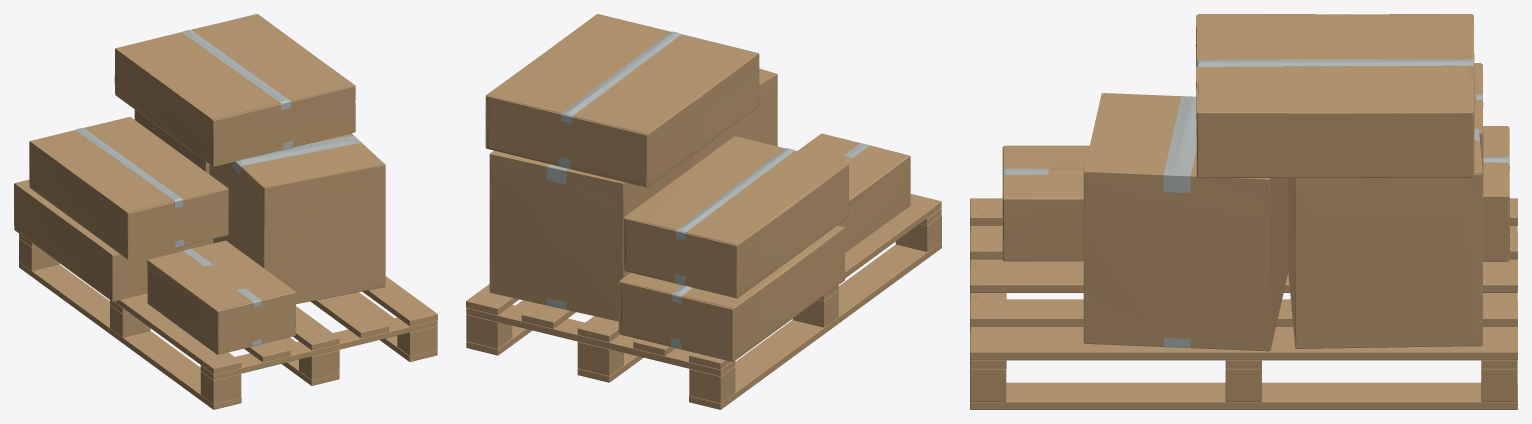
The model's file is pallet_composition_a59.glb.
3 renders of one model, left to right at view 1: azimuth 30°, elevation 25°; view 2: azimuth 150°, elevation 25°; view 3: azimuth 270°, elevation 25°, orthographic. The views are drawn at different scales.
Size of the model in its own units: 0.8278 by 0.7229 by 1.2.
